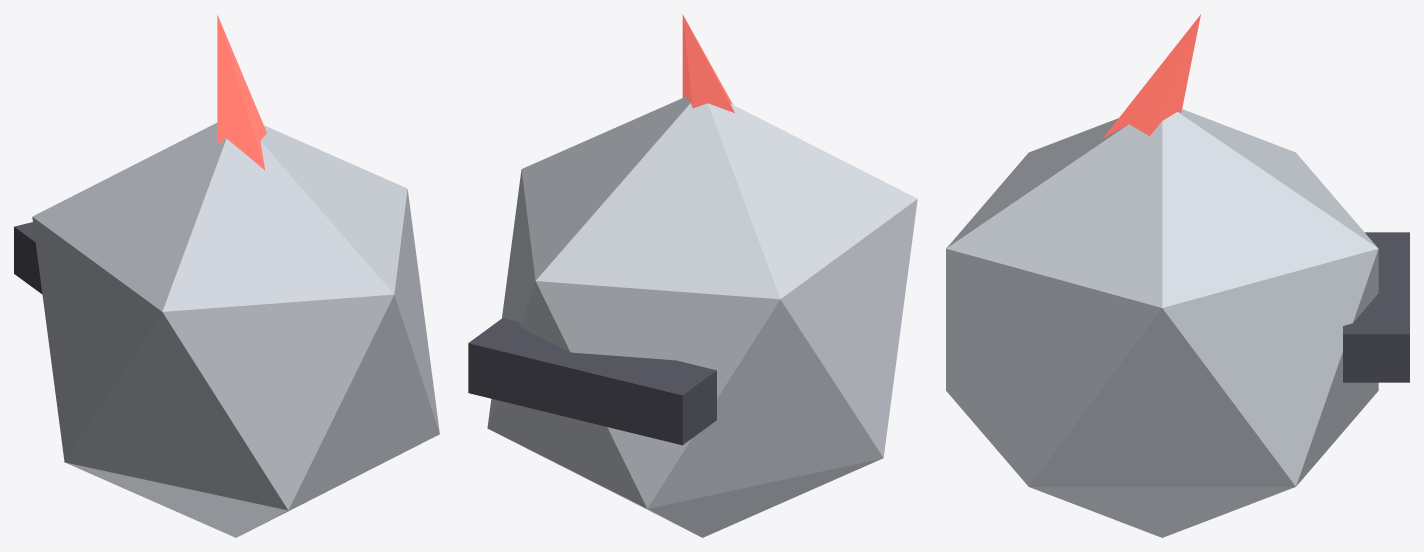
File: helmet.glb
3 renders of one model, left to right at view 1: azimuth 30°, elevation 25°; view 2: azimuth 150°, elevation 25°; view 3: azimuth 270°, elevation 25°, orthographic. The views are drawn at different scales.
Parts seen in each view (by area): view 1: Helmet; view 2: Helmet; view 3: Helmet.
Part boxes in pixels (x1=…): Helmet: x1=14, y1=15, x2=439, y2=537; Helmet: x1=468, y1=14, x2=917, y2=537; Helmet: x1=946, y1=14, x2=1409, y2=537.
Bounding box in the file's own units: 0.6082 × 0.8642 × 0.6932.
